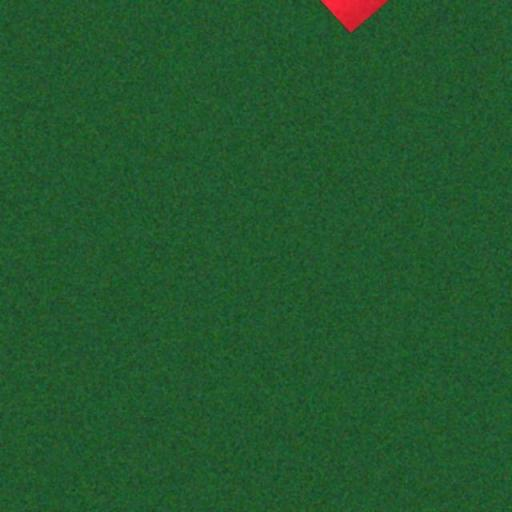RED_SQUARE: (312, 0, 391, 34)
